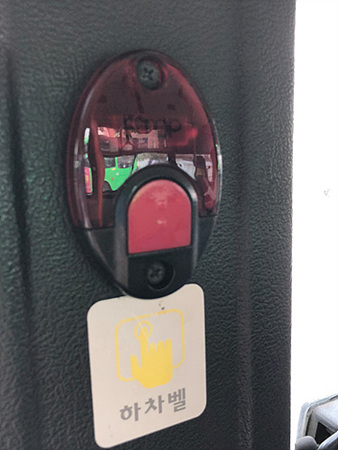bell: (63, 46, 224, 300)
